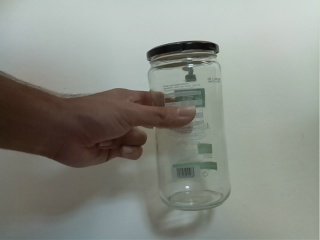pote cristal: (144, 38, 234, 214)
